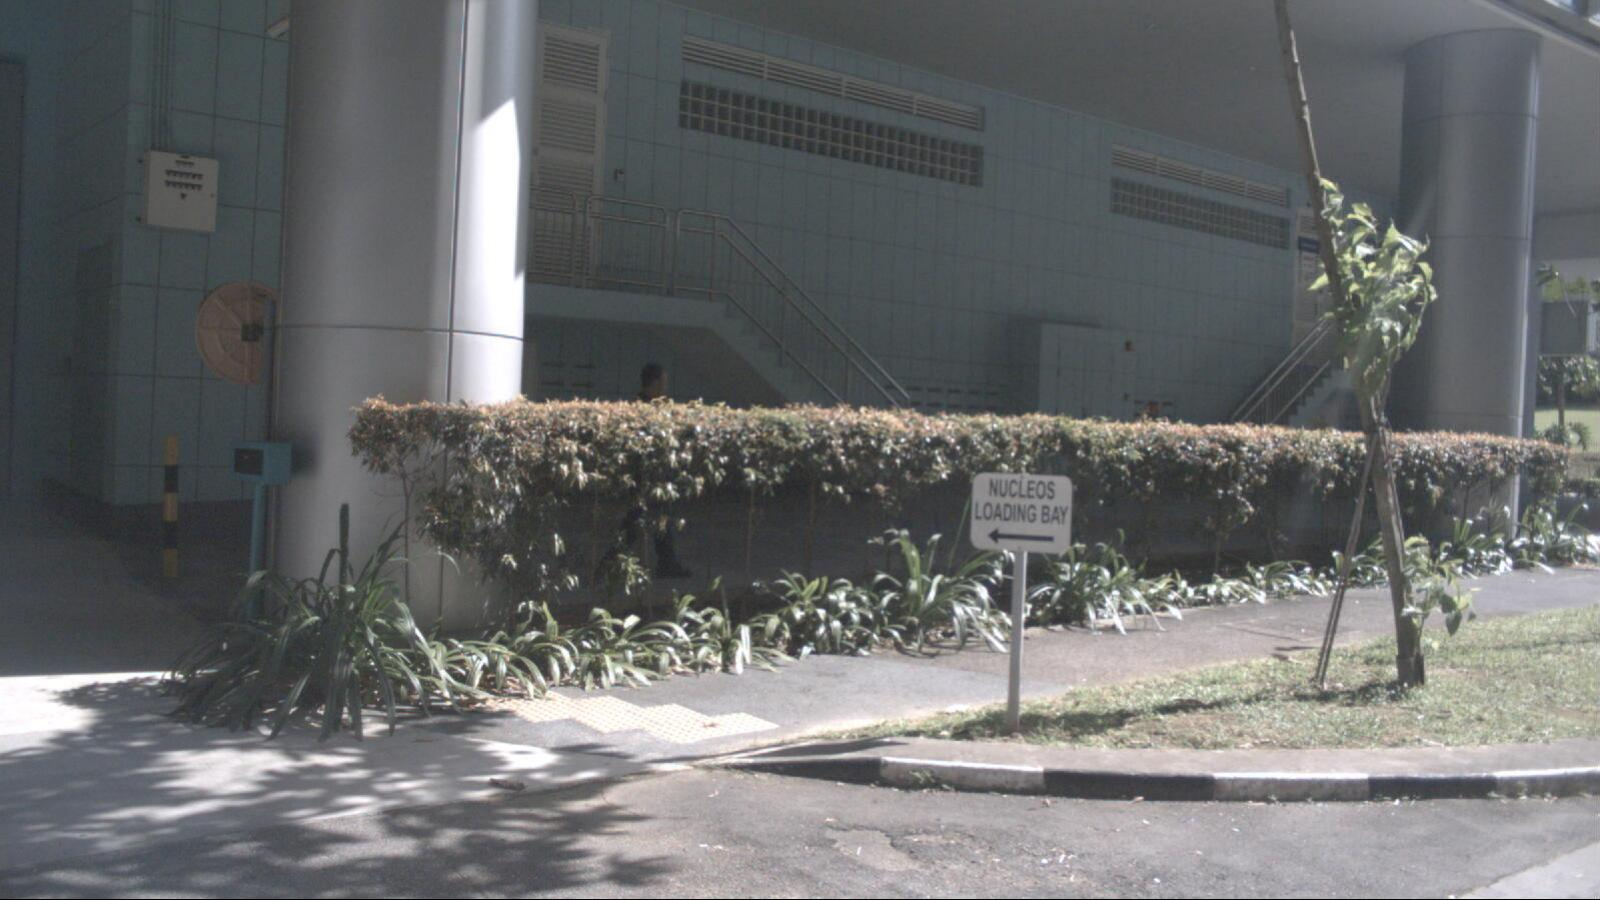human.pedestrian.adult-pedestrian.moving: (614, 362, 696, 581)
